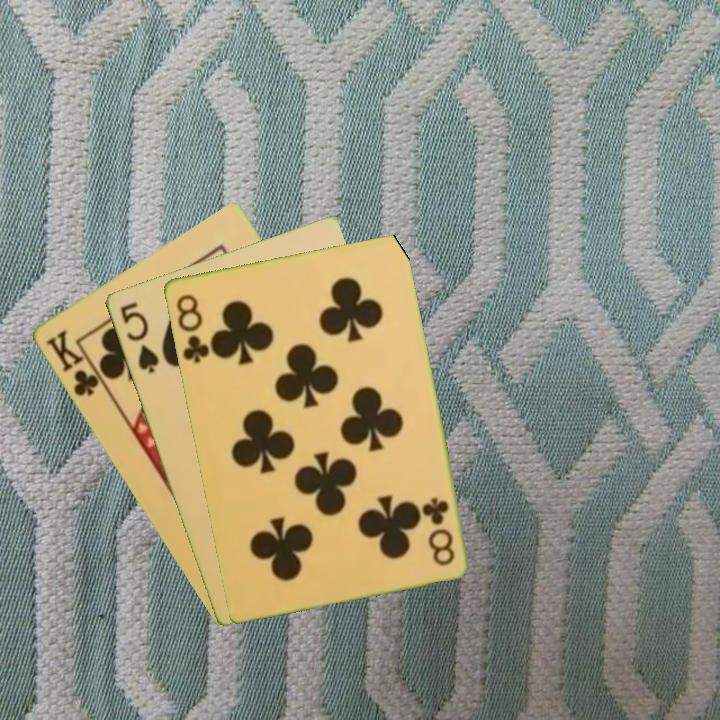5s: (116, 298, 162, 376)
8c: (172, 290, 212, 366), (419, 493, 457, 569)
Kc: (42, 326, 109, 400)
